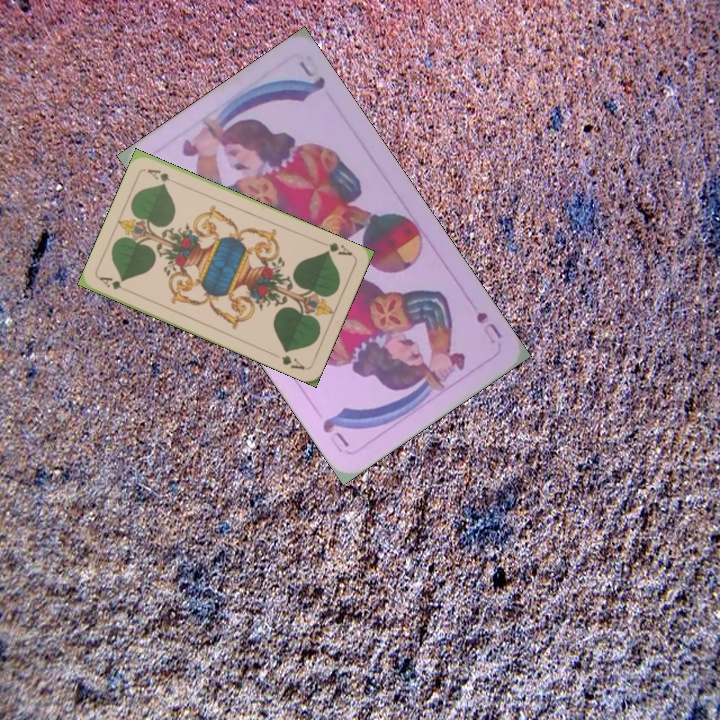GA: (95, 273, 134, 296), (316, 237, 355, 259)
SU: (472, 307, 505, 347)
